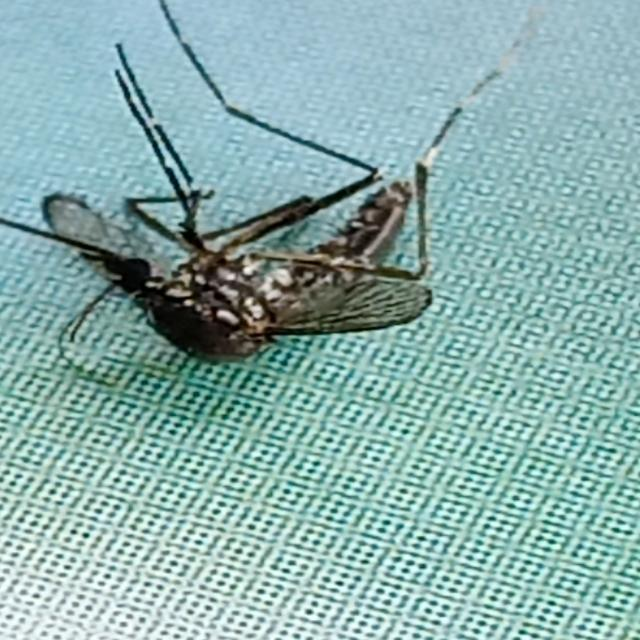albopictus: (6, 11, 493, 402)
